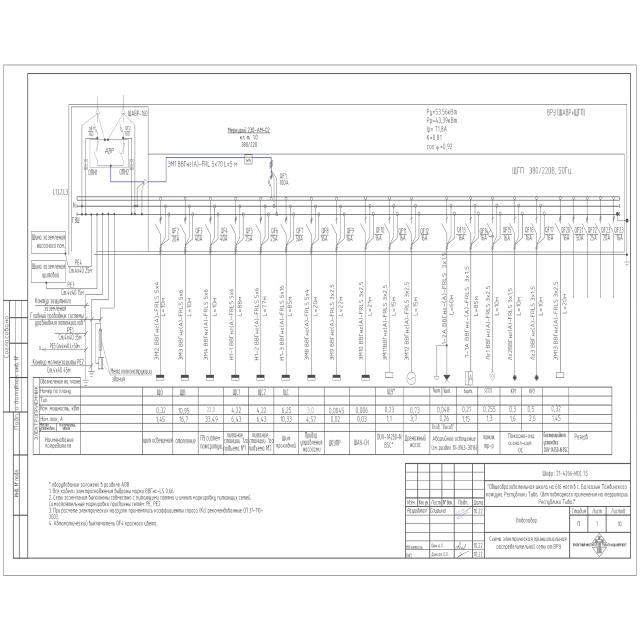-: (128, 109, 148, 118), (89, 132, 94, 137), (125, 132, 131, 136)
AVR: (93, 140, 126, 162)
QF: (93, 119, 99, 135), (118, 119, 124, 134)
